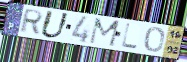4: (71, 15, 91, 45)
L: (121, 22, 139, 50)
M: (88, 16, 123, 48)
O: (144, 26, 166, 53)
R: (18, 8, 45, 35)
U: (39, 9, 72, 39)
